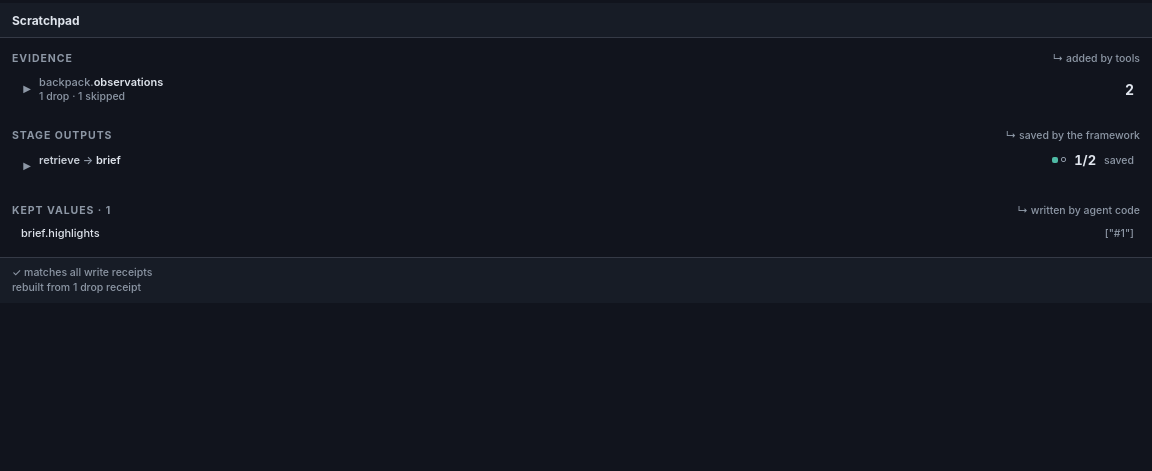
Scenario: evidence provenance › a write missing from the transcript says so instead of a dead seek
Click the button with class "chev" below "Evidence".
click(27, 88)  # box [15, 71, 39, 105]
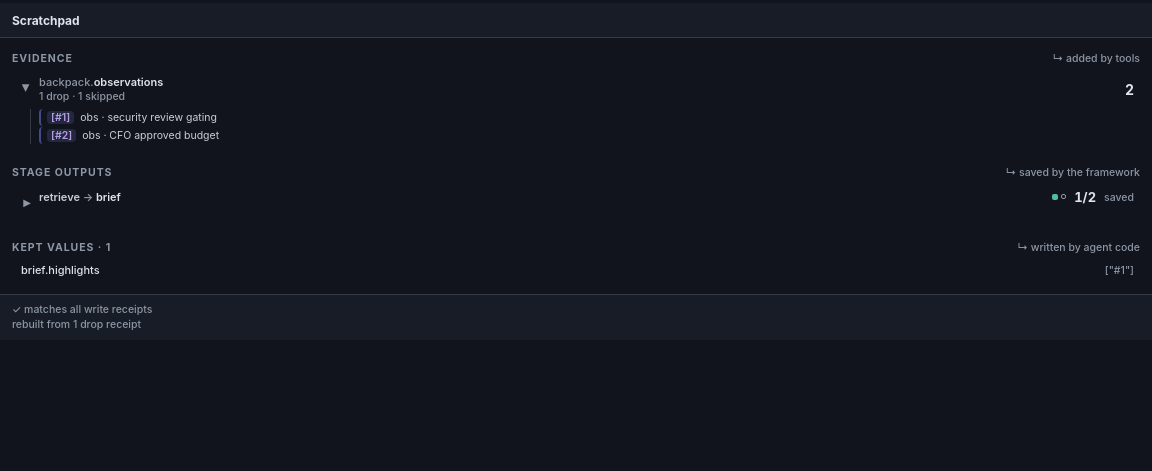
Click the button with class "idx-row" that starts with "obs · security review gating".
click(149, 118)  # box [39, 109, 1140, 126]
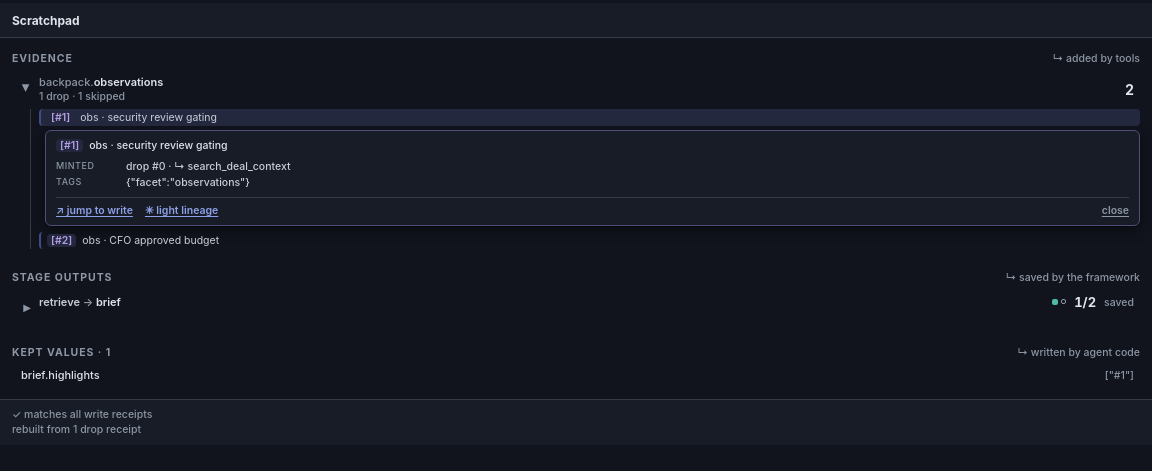
Click the button "↗ jump to write".
click(94, 210)  # box [56, 204, 133, 217]
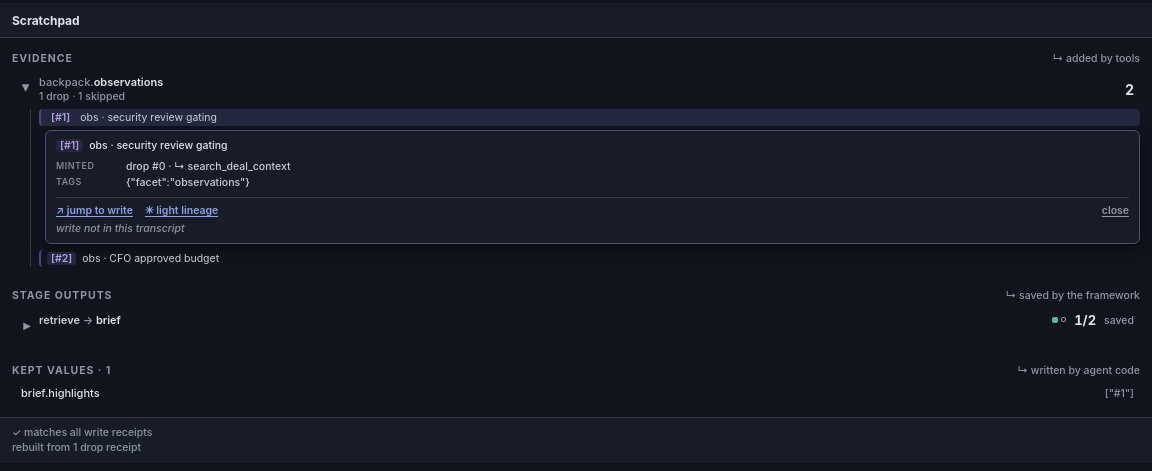
Check: the element that starts with "obs · security review gating" shows "write not in this transcript", box [56, 222, 185, 235]
